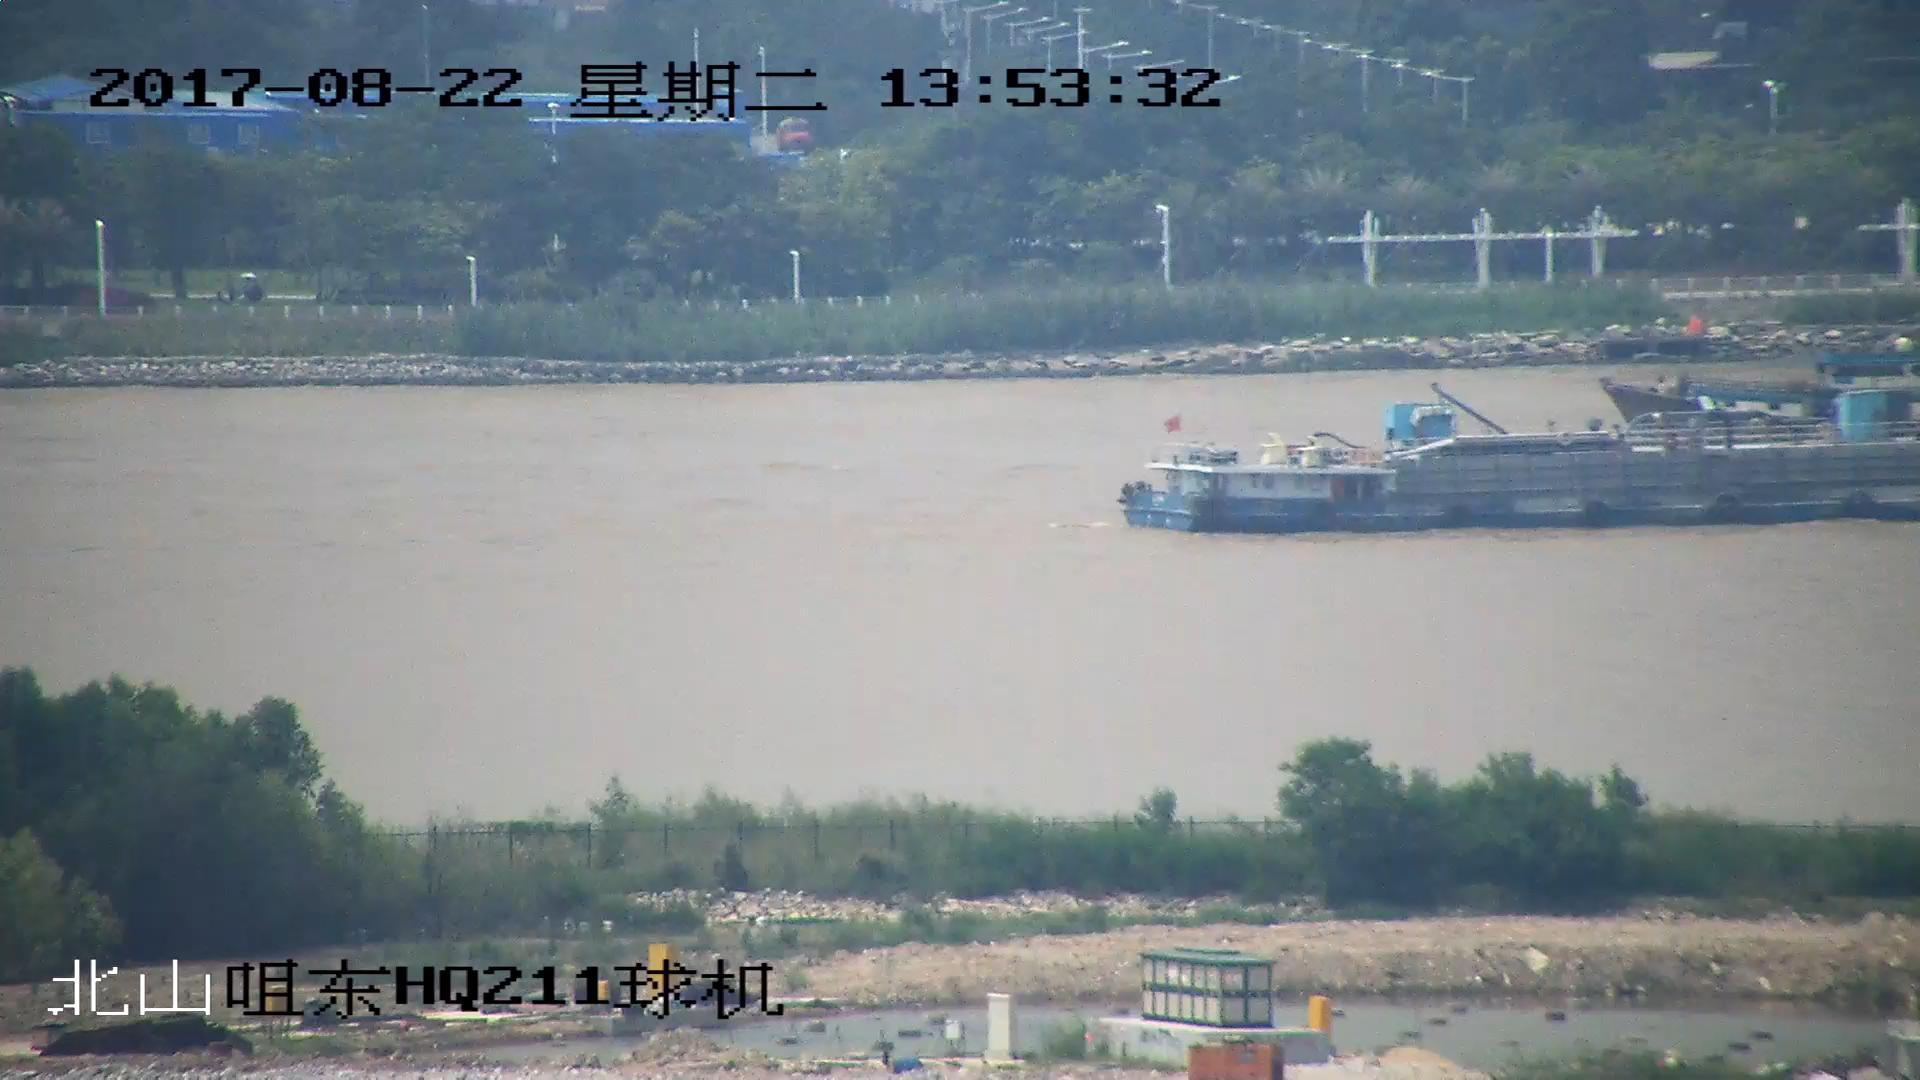Ship: (1120, 407, 1920, 538), (1598, 320, 1920, 444)
